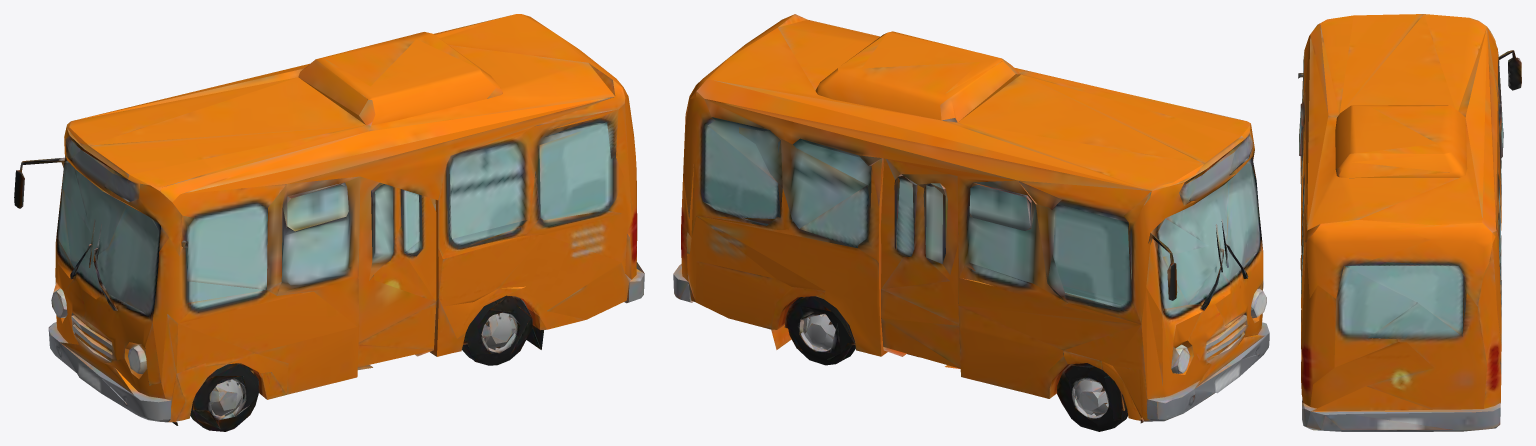
Rendered from bus.glb.
The picture shows the model from 3 angles, left to right: view 1: azimuth 30°, elevation 25°; view 2: azimuth 150°, elevation 25°; view 3: azimuth 270°, elevation 25°; orthographic projection. The views are drawn at different scales.
Bounding box in the file's own units: 1.9 × 0.9728 × 0.7887.
Materials: 1 (1 with a texture image).
